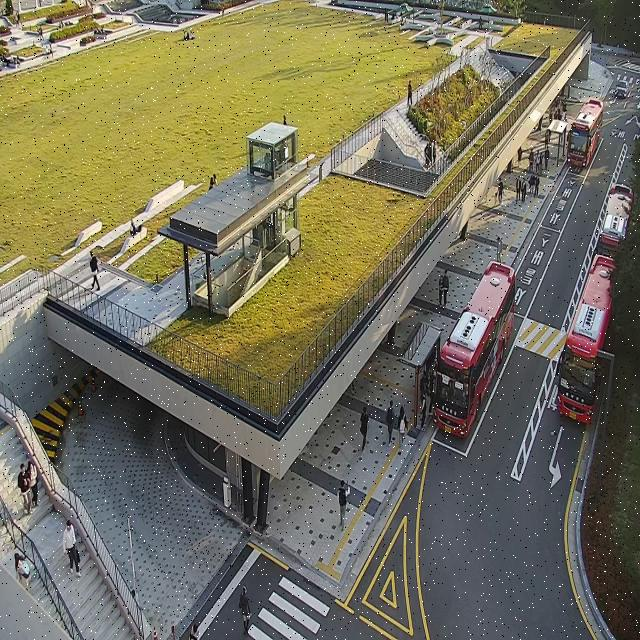queue: (417, 327, 441, 431)
